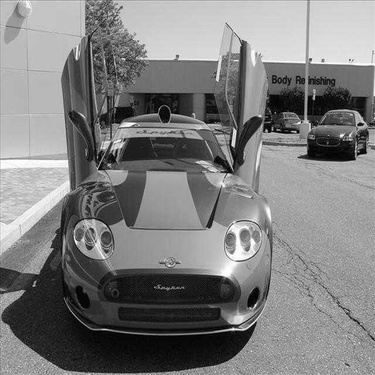car: (50, 13, 277, 343), (306, 107, 370, 158), (275, 107, 302, 137), (246, 111, 275, 133)
